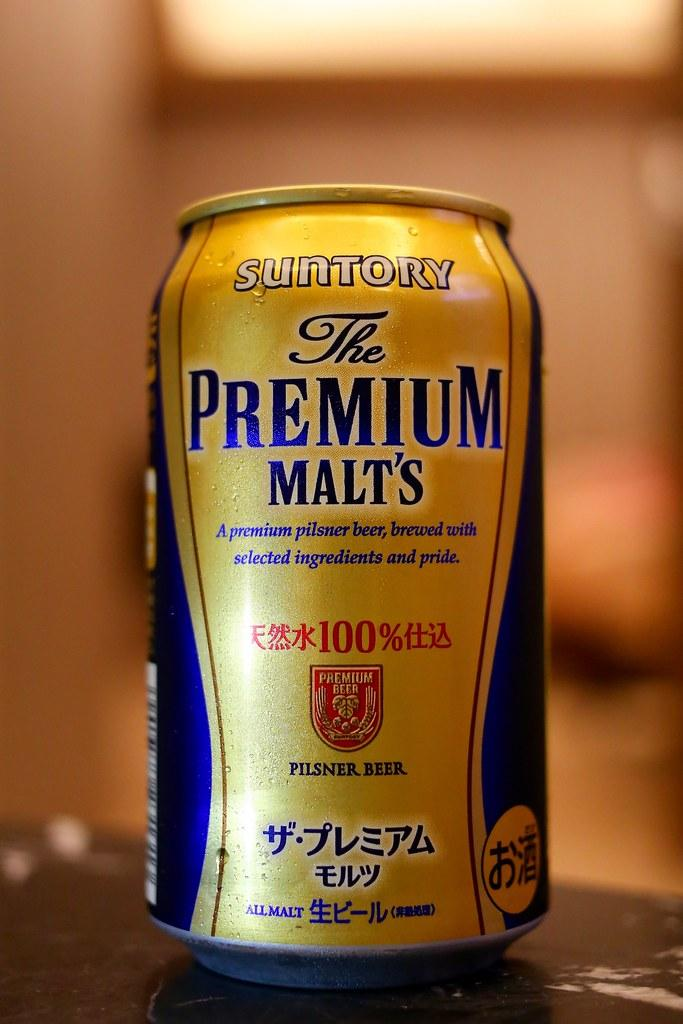metal: (144, 176, 564, 978)
